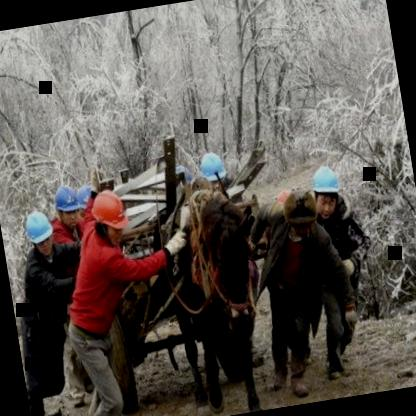helmet: (86, 184, 134, 248), (304, 160, 346, 219), (50, 183, 86, 227), (21, 209, 55, 254), (196, 149, 228, 192)
